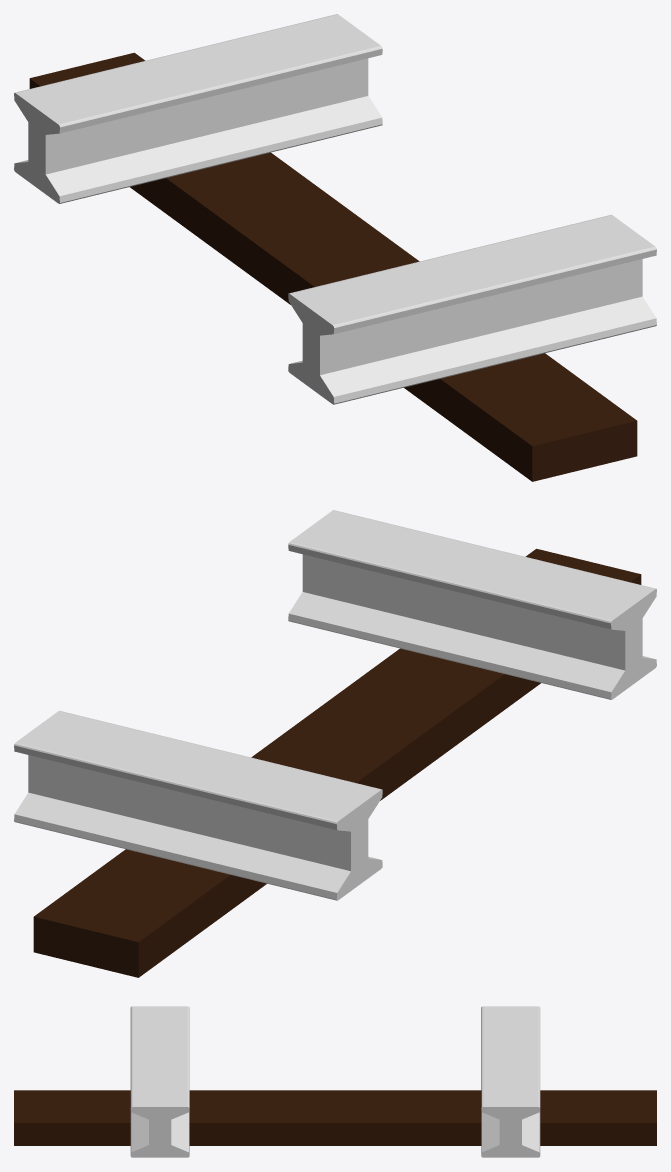
The model's file is RAIL.fbx.
3 renders of one model, top to bottom at view 1: azimuth 30°, elevation 25°; view 2: azimuth 150°, elevation 25°; view 3: azimuth 270°, elevation 25°, orthographic. The views are drawn at different scales.
Parts seen in each view (by area): view 1: Cube.003; view 2: Cube.003; view 3: Cube.003.
Boxes of the visible parts, x1=… form: Cube.003: x1=14, y1=14, x2=656, y2=481; Cube.003: x1=14, y1=510, x2=656, y2=977; Cube.003: x1=14, y1=1006, x2=656, y2=1157.
Bounding box in the file's own units: 150 × 51.07 × 405.
